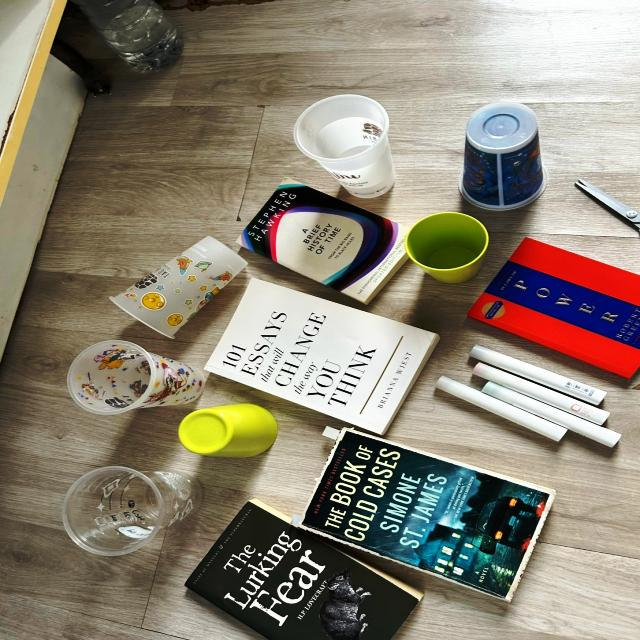Book: (302, 429, 555, 601), (204, 279, 439, 435), (185, 501, 422, 640), (234, 174, 413, 309), (468, 238, 639, 378)
HighLight Pen: (485, 383, 622, 448), (436, 377, 566, 442), (474, 363, 609, 425), (470, 346, 605, 406)
Plastic Cup: (111, 236, 247, 338), (62, 466, 198, 556), (293, 94, 394, 198), (68, 341, 205, 415), (460, 102, 545, 211)
Scissors: (575, 180, 639, 231)
WaterGlass: (405, 212, 489, 283), (178, 404, 277, 457)
